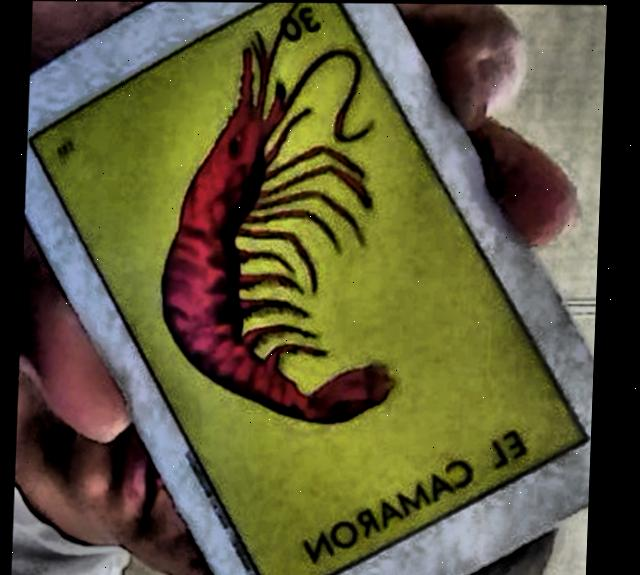El Camaron: (30, 2, 587, 575)
